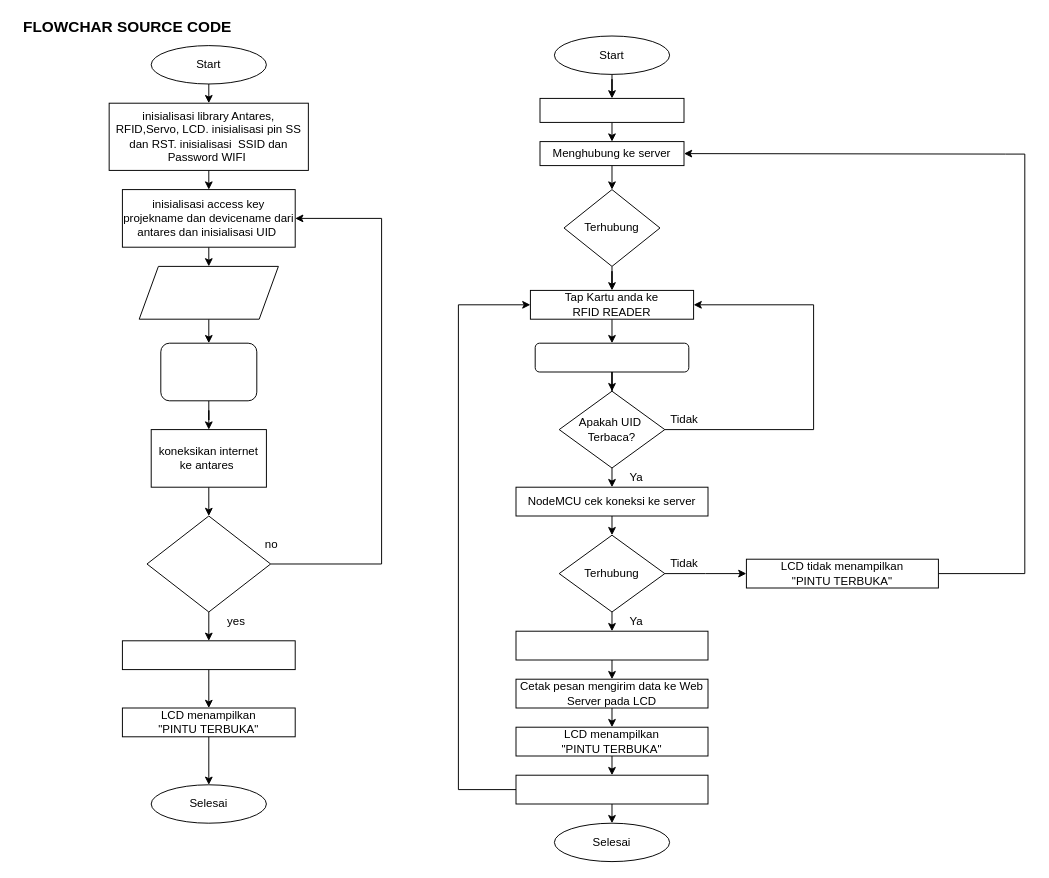
Image size: 1049x878. Some labels were removed from this diagram. Here are the shapes that lost their labels. From the top down, the centre of each, then its label:
At pixel 611 109: "Koneksi ke internet".
At pixel 208 292: "input karakter untuk ditampilkan LCD".
At pixel 208 371: "sinkronisasi data ke esp8266".
At pixel 611 357: "RFID Reader membaca sebuah kode unik".
At pixel 208 563: "Notifikasi Masuk Terdaftar/Tidak".
At pixel 208 655: "Pesan terkirim ke data Web Server pada LCD".
At pixel 611 645: "NodeMCU mengirim data ke server".
At pixel 611 789: "Pintu Kembali Tertutup".
